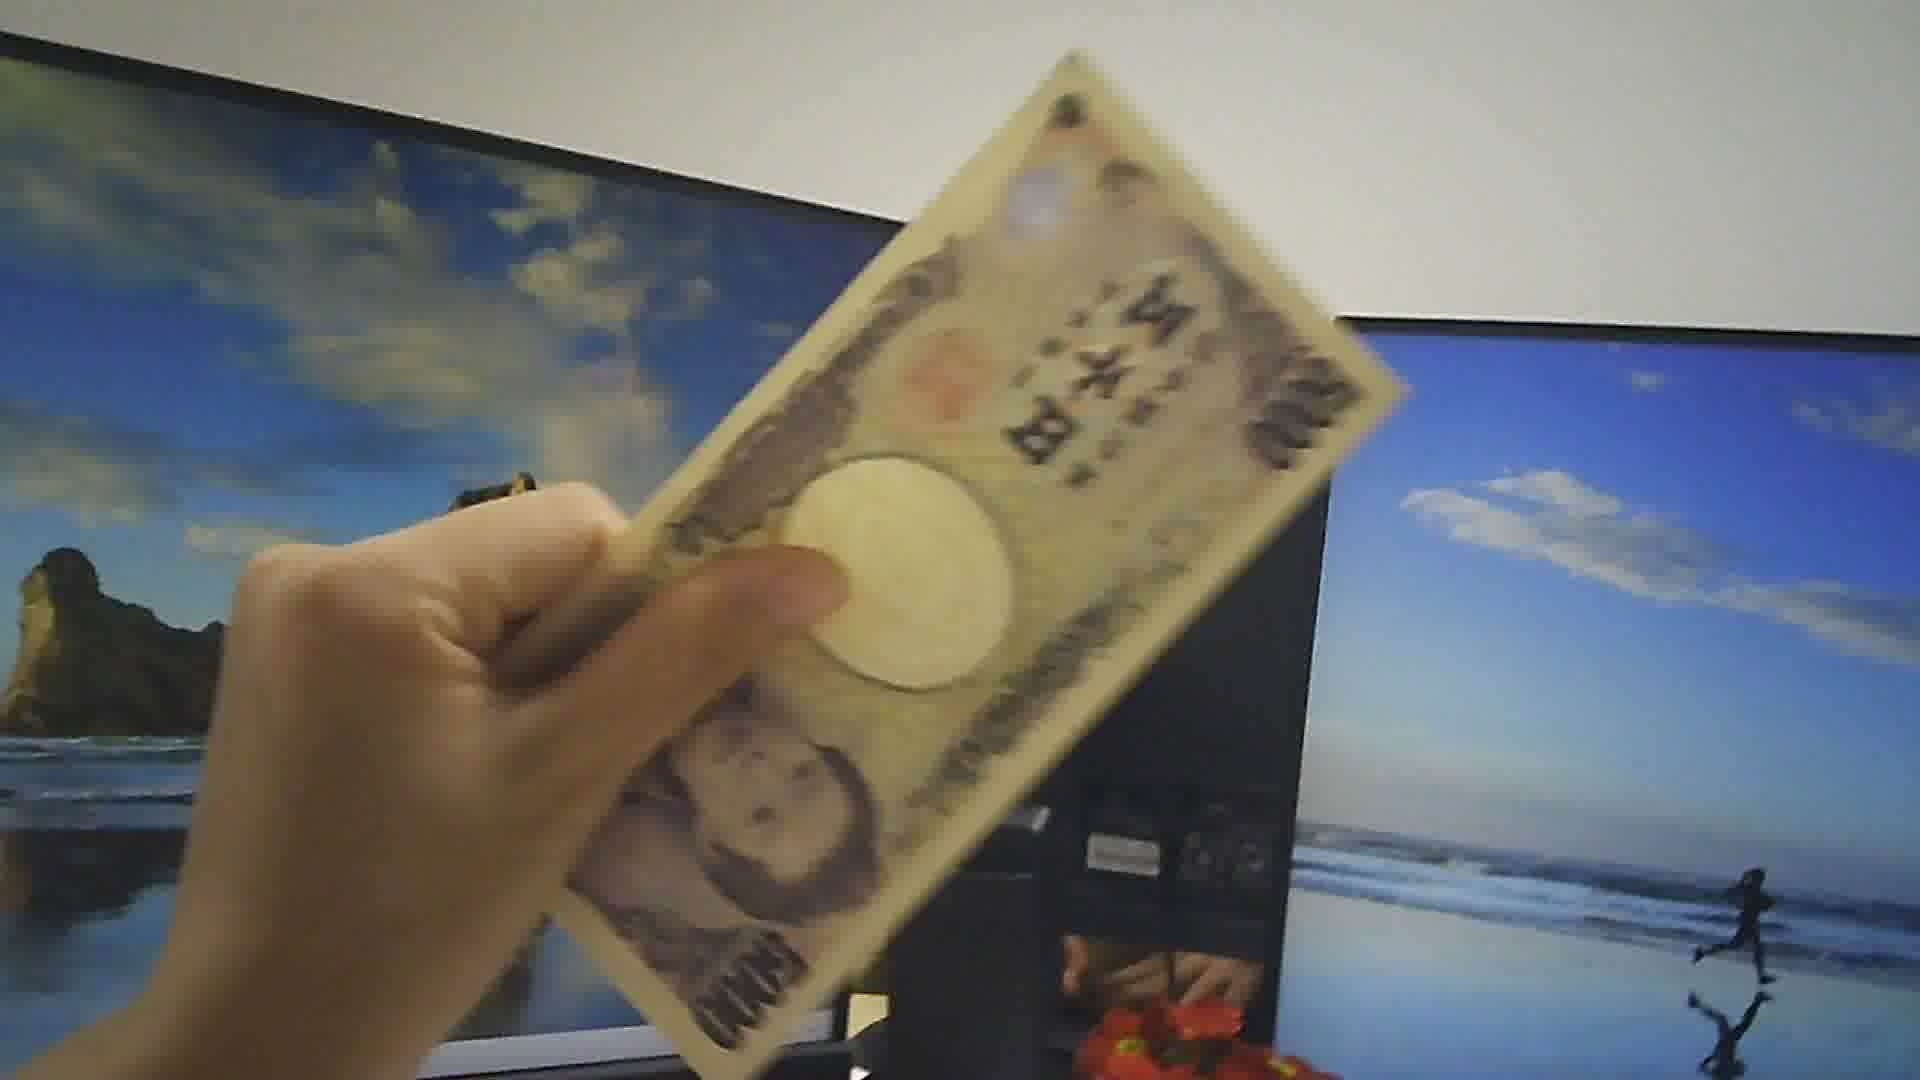5,000 Yen: (463, 29, 1385, 1079)
